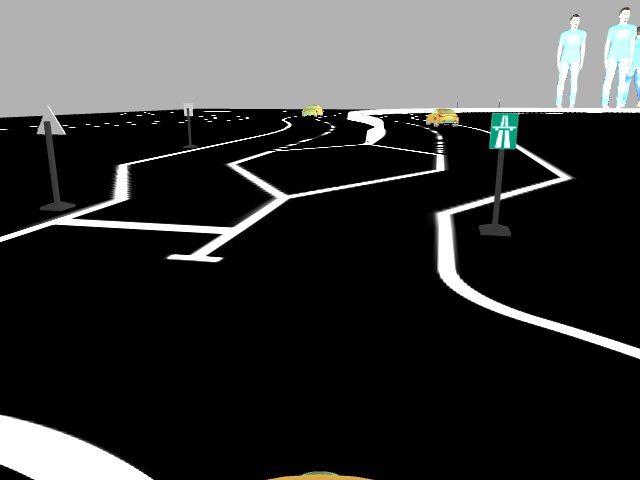HighwayEntrance: (485, 109, 519, 151)
